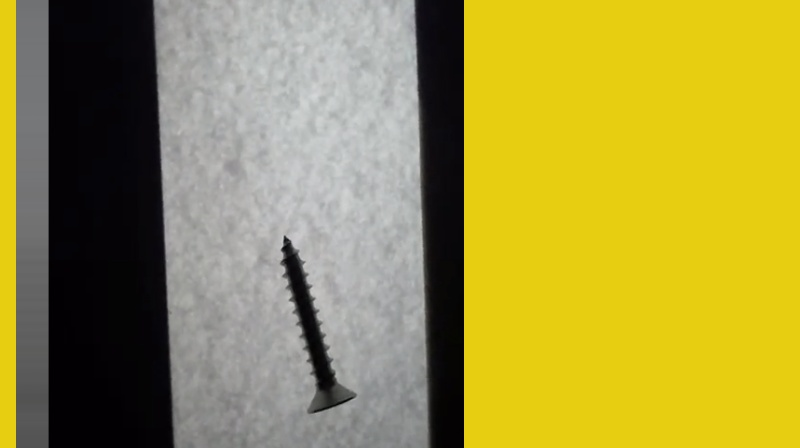S001: (278, 228, 356, 417)
